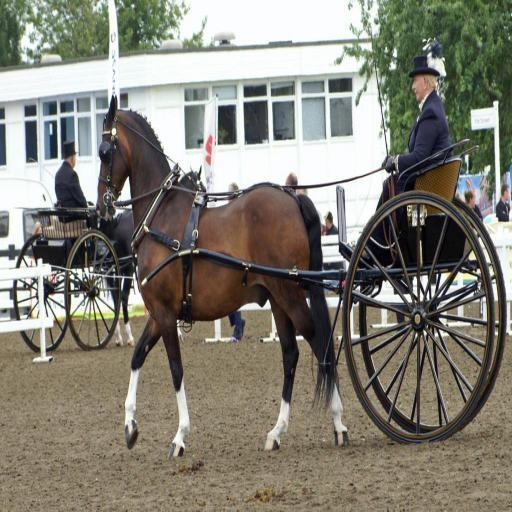Horse: (95, 94, 350, 458), (88, 167, 209, 345)
